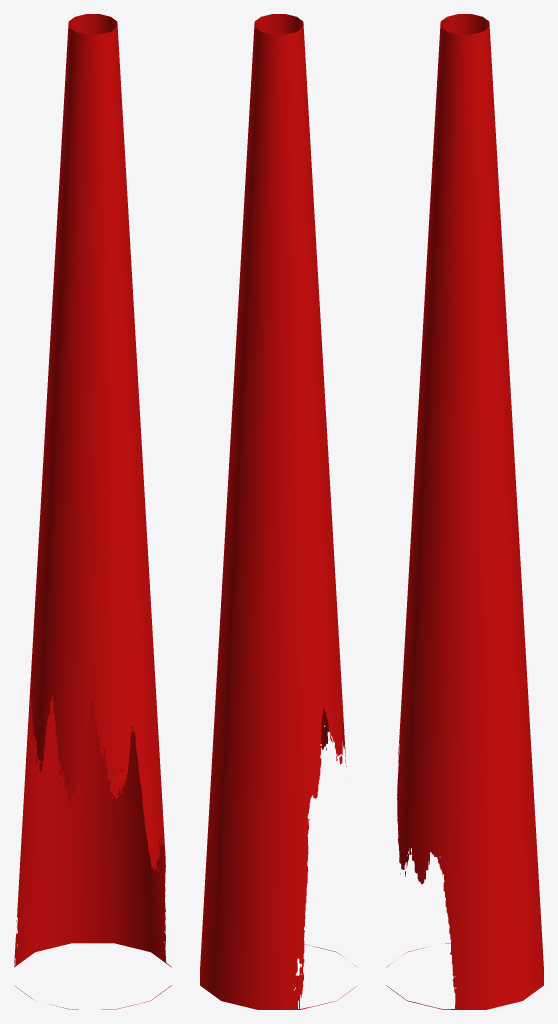
The model's file is rays 3.FBX.
3 views of the same model, side by side, from view 1: azimuth 30°, elevation 25°; view 2: azimuth 150°, elevation 25°; view 3: azimuth 270°, elevation 25° (orthographic).
Parts seen in each view (by area): view 1: Cone001; view 2: Cone001; view 3: Cone001.
Boxes of the visible parts, x1=… form: Cone001: x1=14, y1=14, x2=171, y2=1009; Cone001: x1=200, y1=14, x2=356, y2=1009; Cone001: x1=386, y1=14, x2=543, y2=1009.
Size of the model in its own units: 44.05 by 293 by 44.05.
